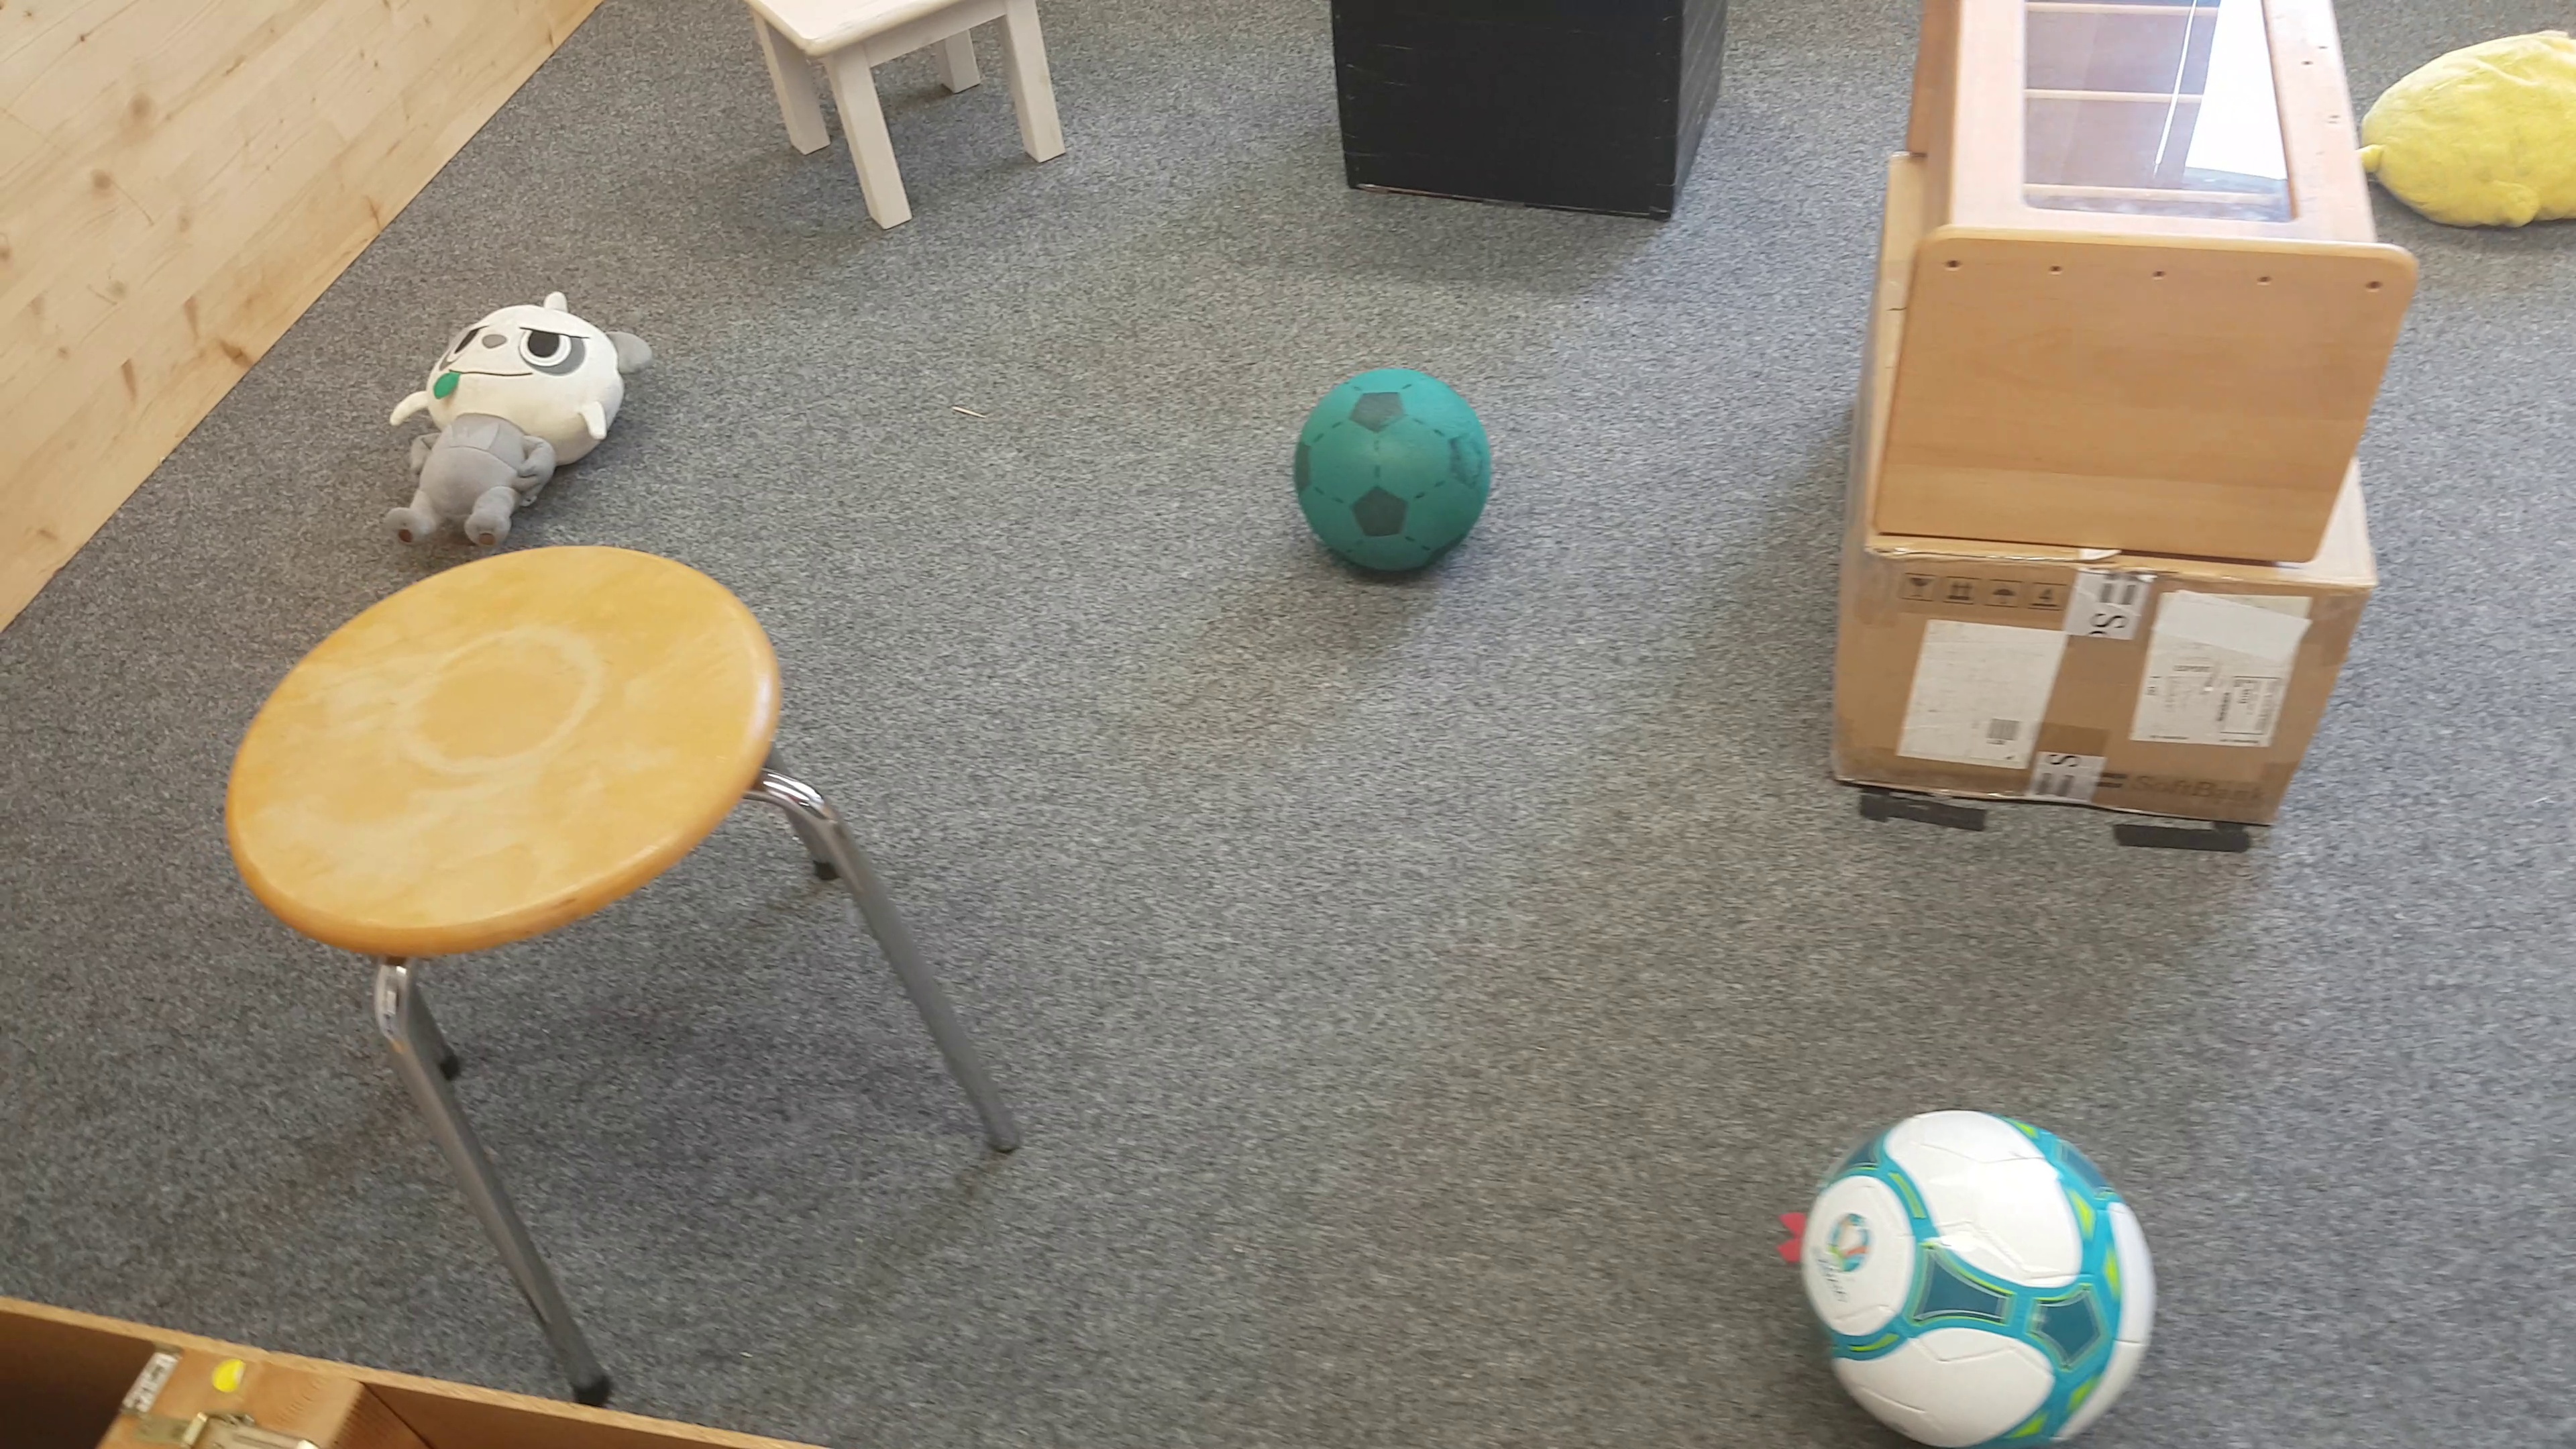grasp: (389, 290, 648, 543), (2369, 11, 2576, 214)
kick: (1808, 1108, 2162, 1449), (1293, 372, 1493, 589)
push: (1327, 0, 1721, 234)
